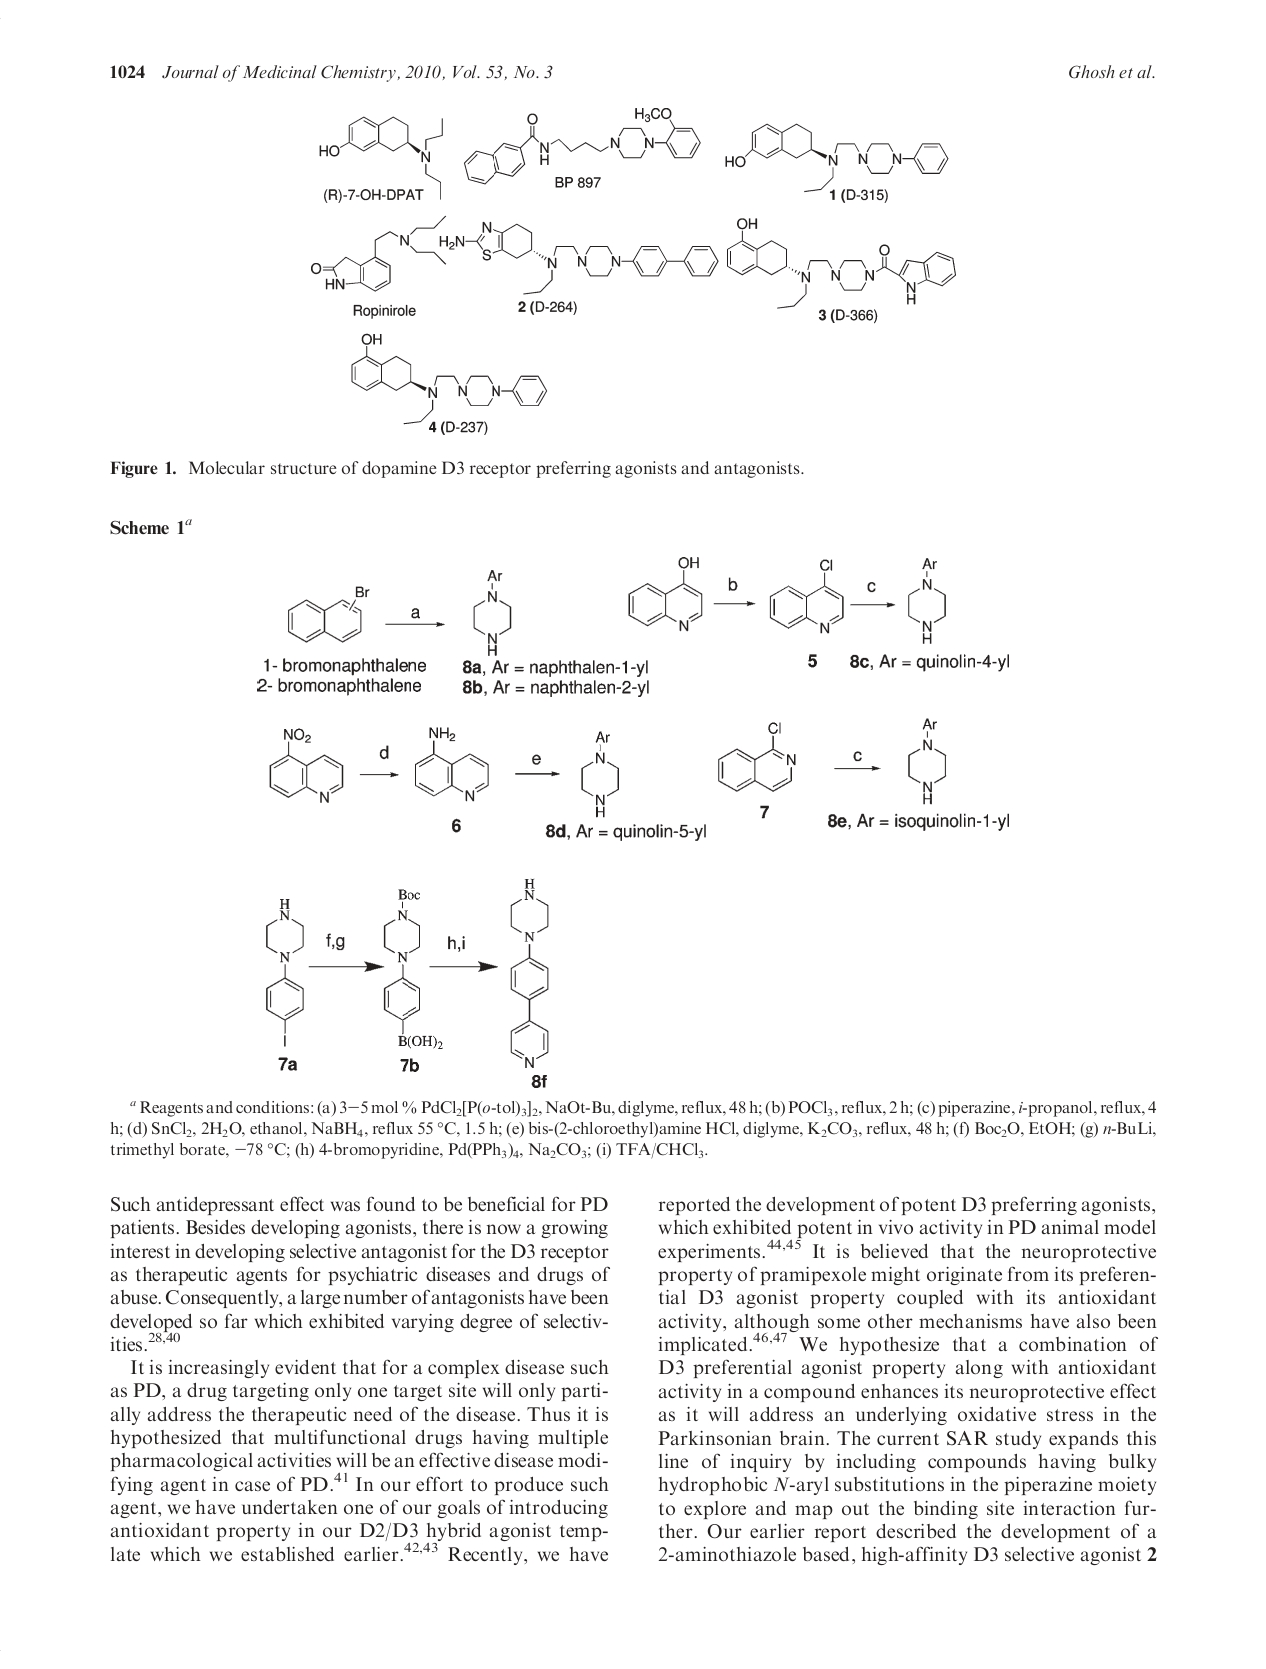exist_molecular: (726, 215, 957, 309), (438, 221, 721, 295), (461, 106, 703, 186), (348, 331, 548, 426), (723, 122, 949, 193), (316, 110, 445, 201), (310, 213, 451, 293), (383, 887, 445, 1051), (508, 876, 552, 1072), (263, 894, 309, 1052), (626, 555, 706, 634), (717, 718, 798, 795), (269, 726, 347, 805), (769, 557, 844, 637), (414, 725, 491, 802), (285, 581, 371, 645), (469, 568, 515, 658), (907, 556, 949, 648), (580, 729, 622, 819), (907, 715, 948, 805)
